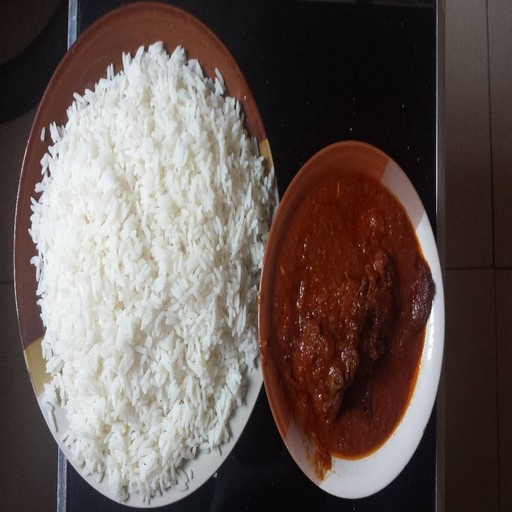rice: (93, 156, 205, 438)
